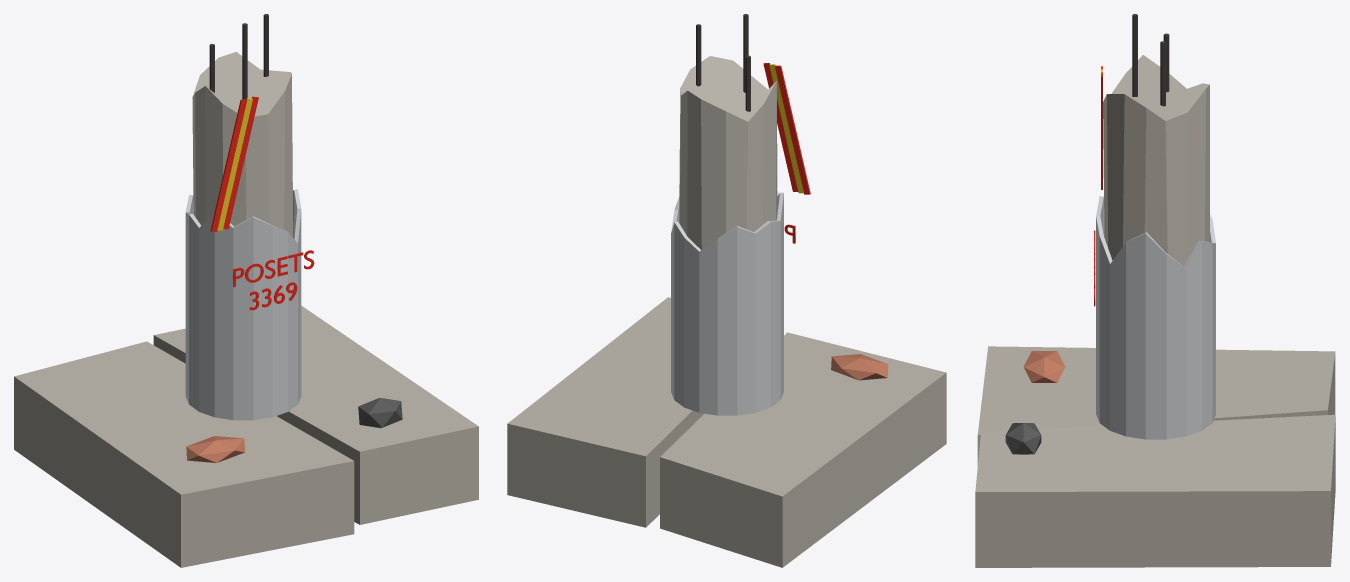
Rendered from cima-posets.glb.
The picture shows the model from 3 angles, left to right: view 1: azimuth 30°, elevation 25°; view 2: azimuth 150°, elevation 25°; view 3: azimuth 270°, elevation 25°; orthographic projection. The views are drawn at different scales.
Visible parts, largest first — view 1: base0, base1, funda, pilar, piedra_pintada, losa, cinta0, cinta2, cinta1, rotulo0; view 2: base0, base1, funda, pilar, piedra_pintada, cinta0, cinta1, cinta2; view 3: base1, funda, pilar, base0, piedra_pintada, losa, hierro1.
Boxes of the visible parts, <box> form: base0: <box>14,341,354,567</box>; base1: <box>153,306,478,524</box>; funda: <box>185,189,301,420</box>; pilar: <box>192,51,293,237</box>; piedra_pintada: <box>186,436,244,462</box>; losa: <box>358,398,402,428</box>; cinta0: <box>210,99,247,231</box>; cinta2: <box>223,96,258,229</box>; cinta1: <box>217,98,252,230</box>; rotulo0: <box>233,250,314,287</box>; base0: <box>660,332,946,567</box>; base1: <box>507,297,703,527</box>; funda: <box>671,191,783,415</box>; pilar: <box>679,56,777,249</box>; piedra_pintada: <box>831,354,888,380</box>; cinta0: <box>775,65,810,194</box>; cinta1: <box>769,64,803,193</box>; cinta2: <box>763,63,798,191</box>; base1: <box>975,414,1335,567</box>; funda: <box>1096,196,1215,439</box>; pilar: <box>1103,55,1209,265</box>; base0: <box>977,346,1335,465</box>; piedra_pintada: <box>1024,351,1064,382</box>; losa: <box>1005,423,1041,454</box>; hierro1: <box>1132,14,1137,96</box>.
Size of the model in its own units: 1 by 1.52 by 1.03.
